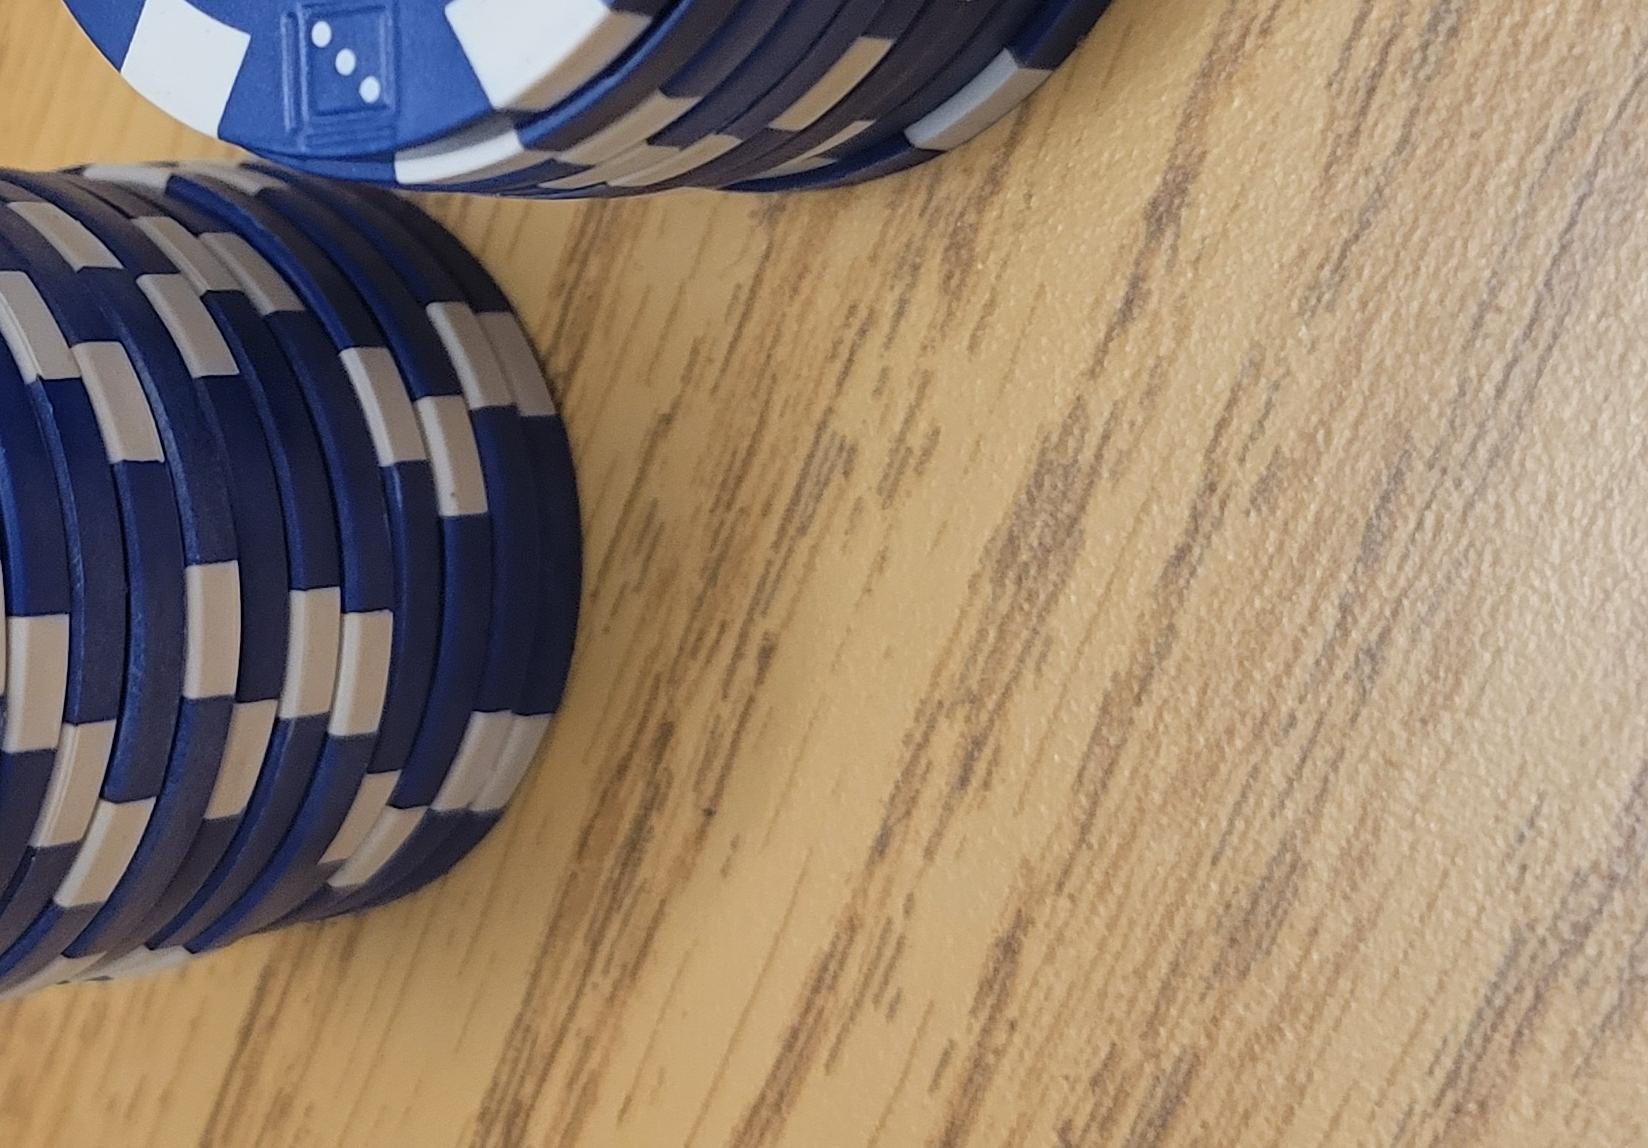Chip: (1, 429, 763, 1148)
